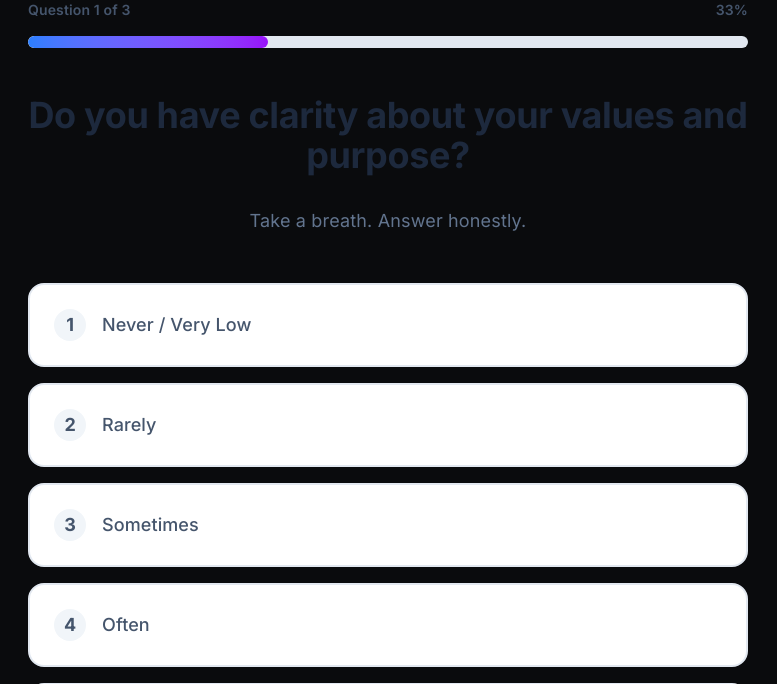
Test case: AssessmentStepper Component › Answer Selection › should enable Next button after selecting an answer
The image size is (777, 684).
Step 1. Click the button "4 Often" → {"x": 70, "y": 625}, box [28,583,748,667]
(page scrolled)
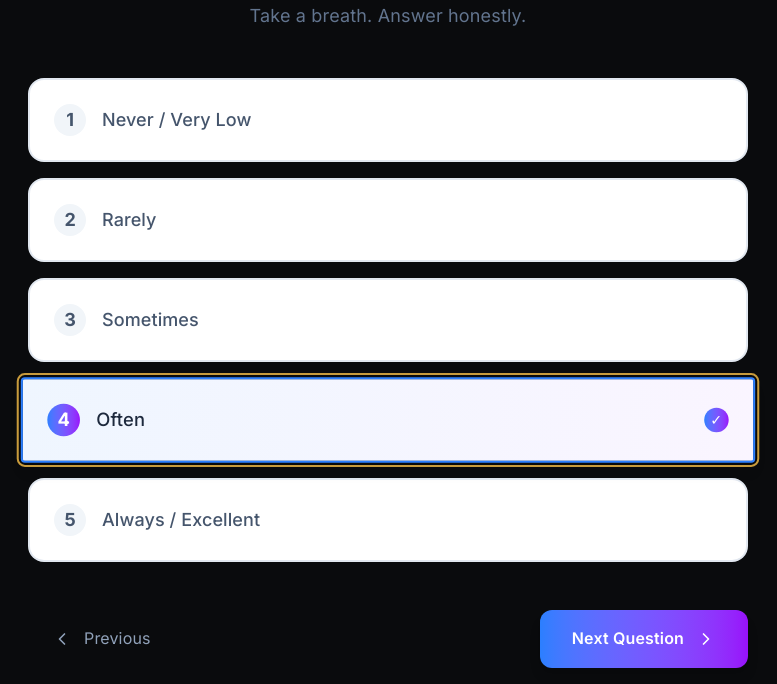
Expected: the button "Next Question" is enabled, [540,610,748,668]
